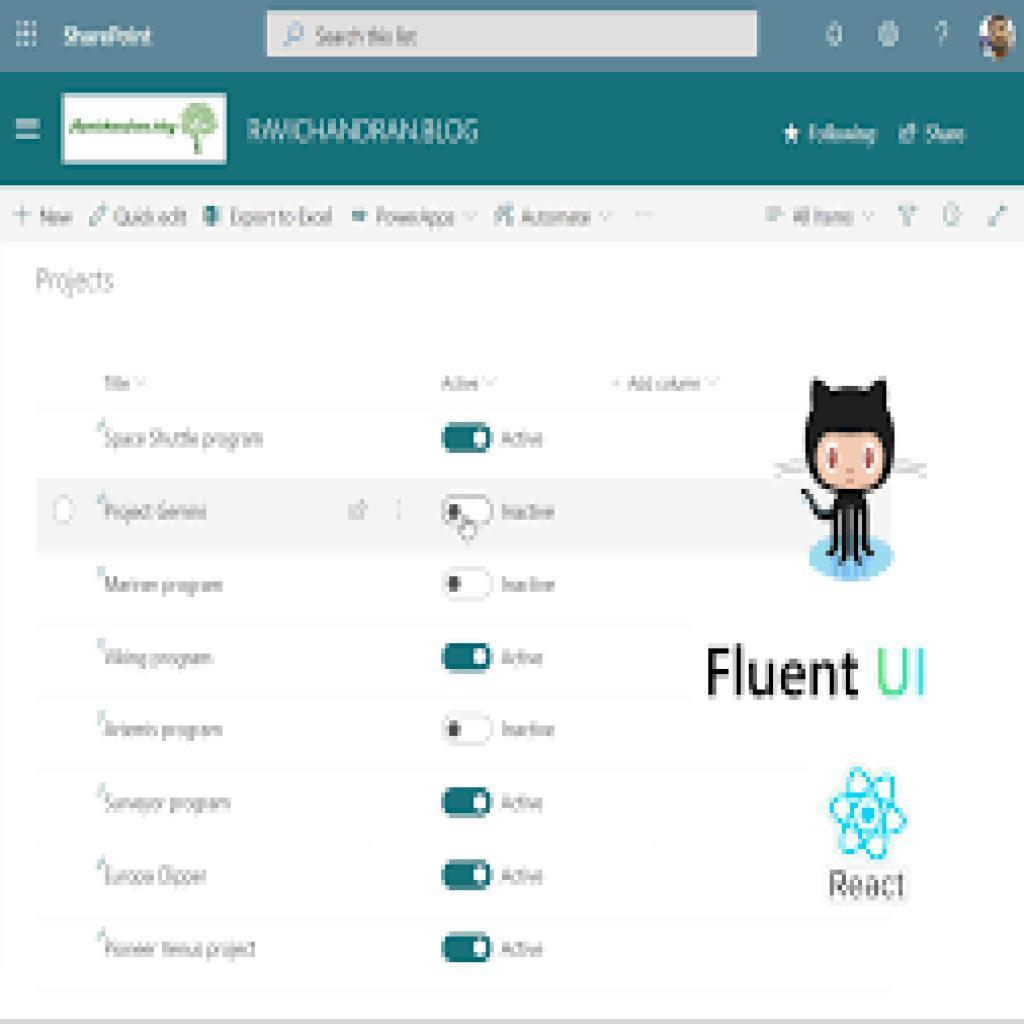icon: (12, 112, 49, 149), (16, 17, 44, 54), (941, 198, 967, 235), (893, 199, 922, 231), (985, 202, 1015, 231), (894, 119, 920, 147), (780, 120, 802, 151)
input: (266, 11, 758, 56)
switch: (435, 490, 497, 537), (438, 780, 495, 821), (439, 565, 499, 603), (440, 420, 498, 459), (439, 930, 498, 966), (441, 856, 496, 894), (440, 643, 498, 675), (443, 707, 490, 746)
